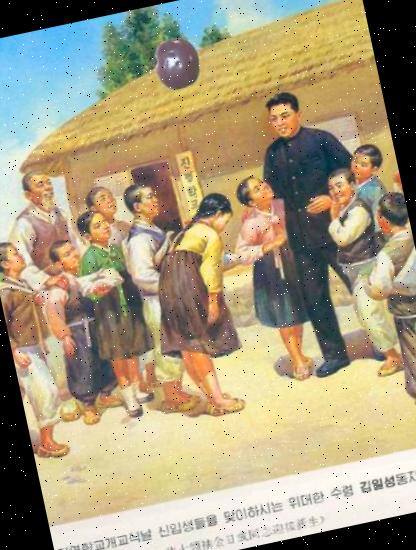Passion: (146, 32, 208, 95)
